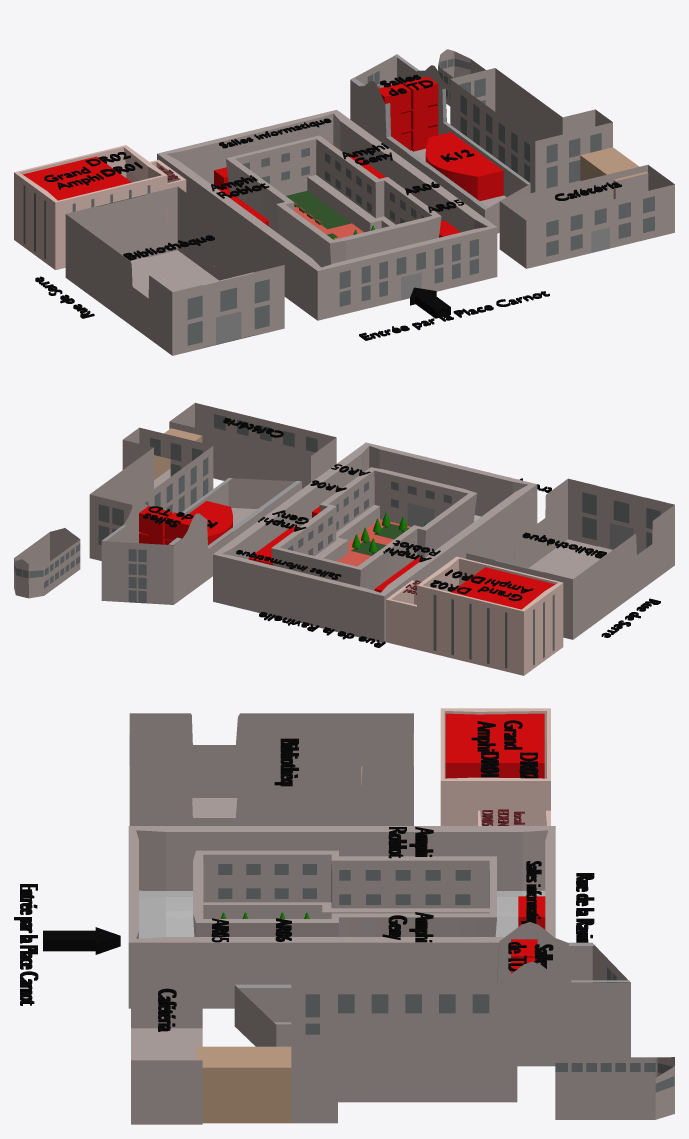
The model's file is amphis7.glb.
3 views of the same model, one above another, from view 1: azimuth 30°, elevation 25°; view 2: azimuth 150°, elevation 25°; view 3: azimuth 270°, elevation 25° (orthographic). The views are drawn at different scales.
Visible parts, largest first — view 1: Bâtiment principal, Cube.001, Cube.006, Cube.005, Cube, Cube.004, Roblot.005, Geny.003, Roblot.003, sol fac, toits, Roblot.004 (+6 smaller); view 2: Bâtiment principal, Cube.001, Cube, Cube.004, Cube.006, Cube.005, Cube.007, Geny.003, sol fac, Roblot.005, Roblot.003, toits (+8 smaller); view 3: Bâtiment principal, Cube.006, Cube.001, Cube.004, Cube.005, Cube.007, Cube, Geny.003, Cube.003, Geny.009, Geny.011, Roblot (+7 smaller).
Part boxes in pixels (box(x1,y1,x2,y2)): Bâtiment principal: box(157, 110, 497, 320); Cube.001: box(65, 186, 284, 355); Cube.006: box(450, 68, 648, 199); Cube.005: box(499, 165, 674, 268); Cube: box(14, 145, 186, 269); Cube.004: box(350, 55, 530, 233); Roblot.005: box(425, 132, 503, 200); Geny.003: box(23, 156, 131, 200); Roblot.003: box(403, 76, 438, 151); sol fac: box(286, 190, 374, 239); toits: box(163, 54, 530, 279); Roblot.004: box(378, 83, 410, 152); Bâtiment principal: box(213, 442, 537, 642); Cube.001: box(466, 478, 674, 639); Cube: box(386, 556, 563, 675); Cube.004: box(101, 478, 301, 604); Cube.006: box(89, 427, 213, 560); Cube.005: box(169, 403, 336, 488); Cube.007: box(14, 528, 80, 598); Geny.003: box(451, 567, 555, 609); sol fac: box(337, 512, 426, 566); Roblot.005: box(189, 501, 232, 549); Roblot.003: box(139, 506, 172, 544); toits: box(102, 478, 607, 564); Bâtiment principal: box(128, 826, 555, 1008); Cube.006: box(197, 984, 517, 1123); Cube.001: box(129, 713, 413, 825); Cube.004: box(234, 922, 630, 1066); Cube.005: box(131, 964, 202, 1124); Cube.007: box(555, 1057, 674, 1119); Cube: box(440, 708, 550, 825); Geny.003: box(445, 713, 544, 778); Cube.003: box(43, 927, 120, 954); Geny.009: box(14, 884, 38, 1005); Geny.011: box(576, 873, 594, 942); Roblot: box(388, 827, 433, 858).
Bounding box in the file's own units: 18.35 × 2.76 × 14.54.
